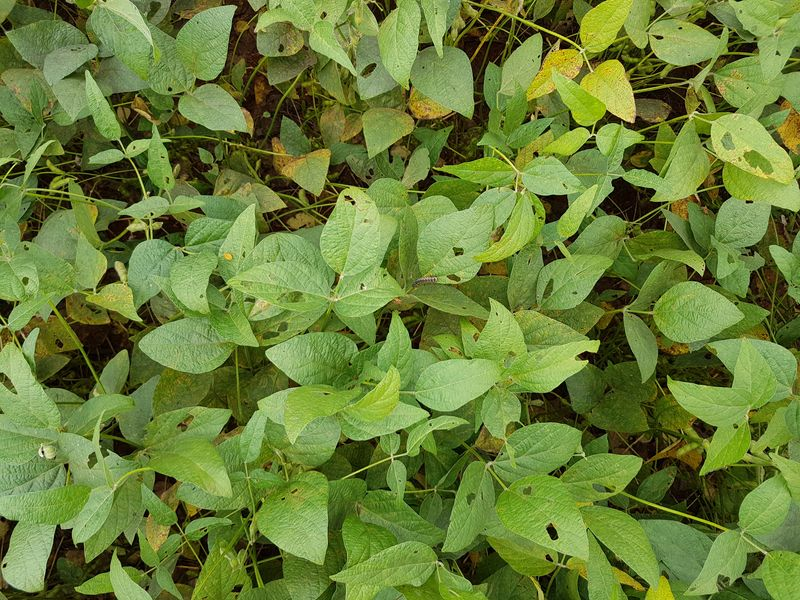Euschistus_heros_ninfa: (219, 249, 237, 266)
Spodoptera_albula: (405, 270, 445, 297)
